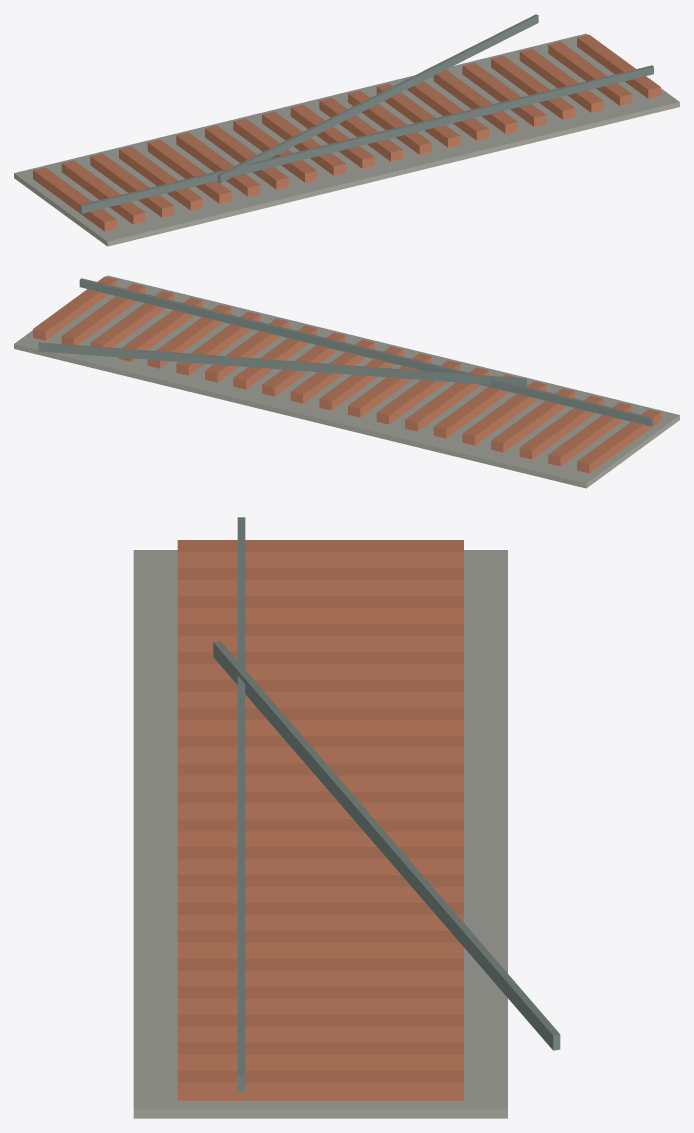
The model's file is SM_ViaRota_v3_Cruzada_LOD0.fbx.
3 views of the same model, one above another, from view 1: azimuth 30°, elevation 25°; view 2: azimuth 150°, elevation 25°; view 3: azimuth 270°, elevation 25° (orthographic). The views are drawn at different scales.
Visible parts, largest first — view 1: SM_aqui_paso_algo_v8_LOD0; view 2: SM_aqui_paso_algo_v8_LOD0; view 3: SM_aqui_paso_algo_v8_LOD0.
Boxes of the visible parts, bbox=[...] form: SM_aqui_paso_algo_v8_LOD0: bbox=[14, 14, 679, 246]; SM_aqui_paso_algo_v8_LOD0: bbox=[14, 275, 679, 488]; SM_aqui_paso_algo_v8_LOD0: bbox=[133, 517, 560, 1118].
Size of the model in its own units: 12 by 0.475 by 3.88.
